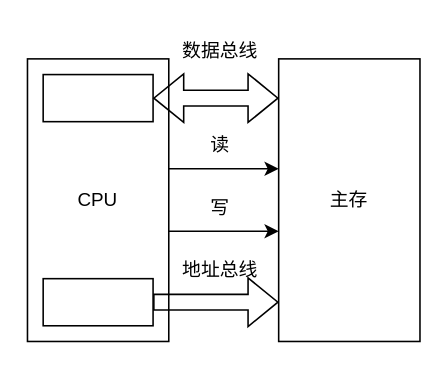
Image size: 447x369. Some labels were removed from this diagram. The shapes that lost their labels are listed below. From the top down, each one's centre as x and y in pixels, then its label:
At pixel 97 97: "MDR".
At pixel 97 301: "MAR".
